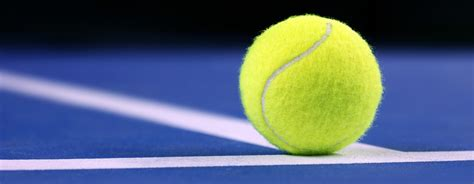tennis_ball: (239, 14, 383, 155)
